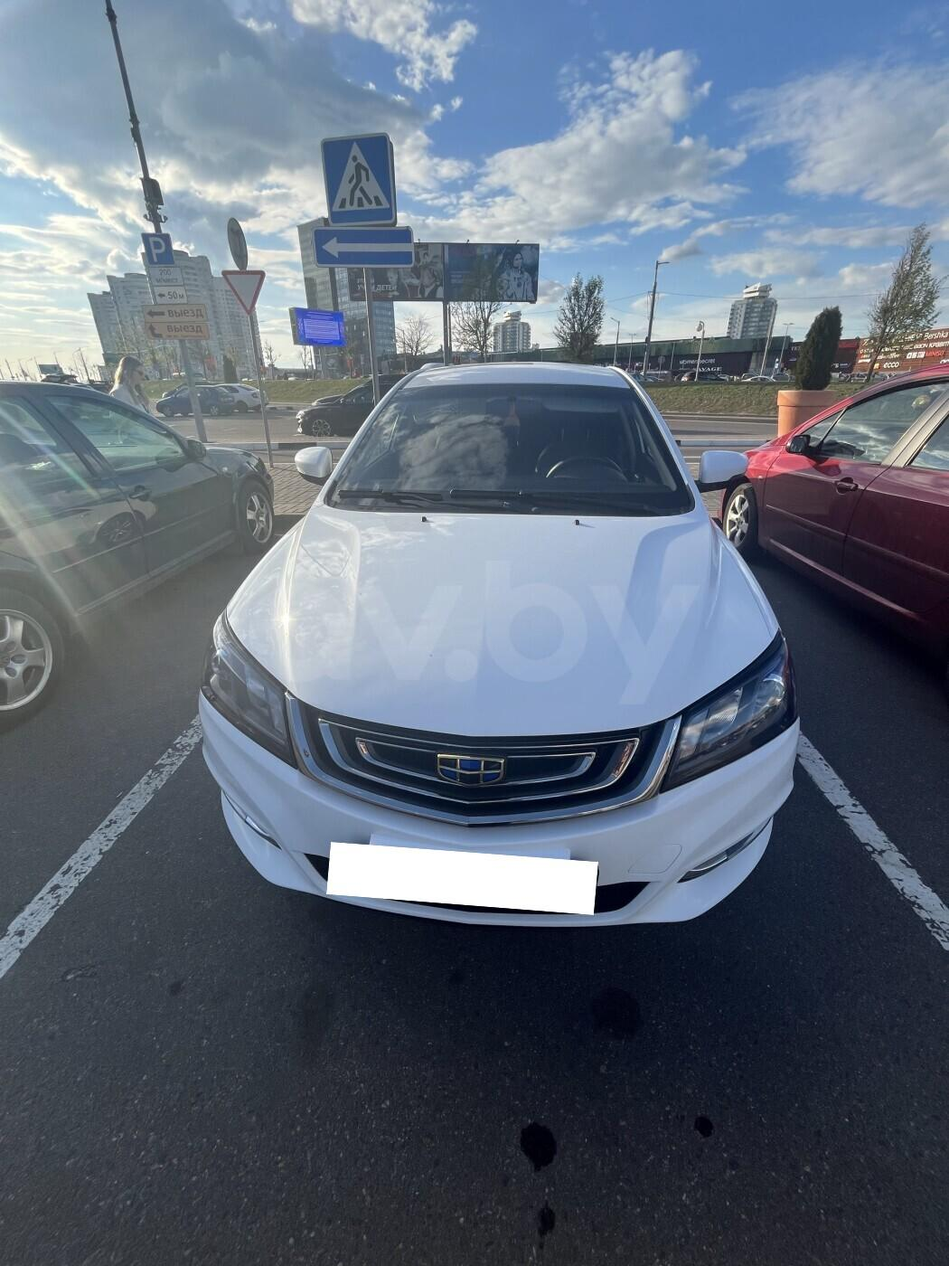Emgrand_2019-2021: (200, 366, 799, 926)
